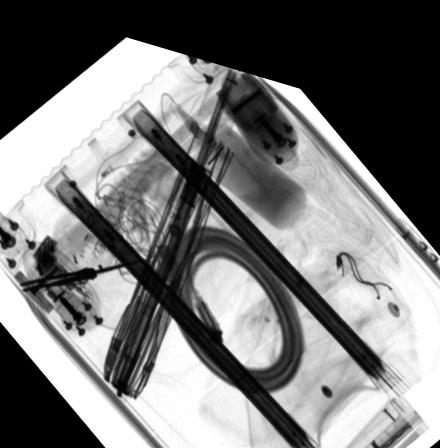Knife: (18, 249, 148, 290)
